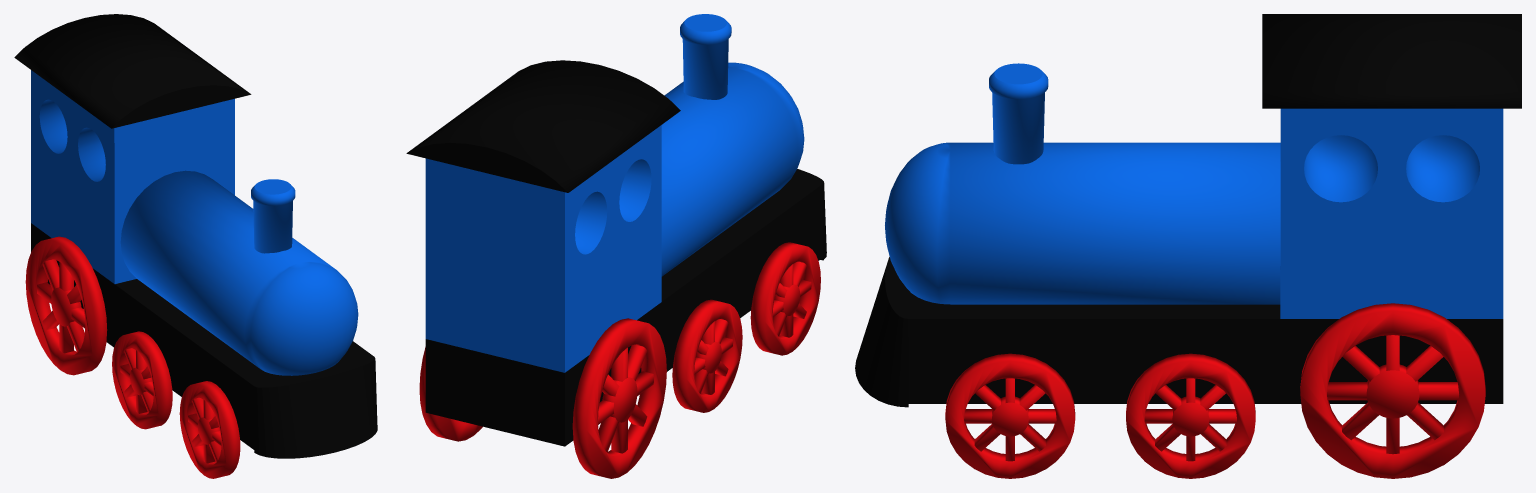
Rendered from locomotive.fbx.
The picture shows the model from 3 angles, left to right: view 1: azimuth 30°, elevation 25°; view 2: azimuth 150°, elevation 25°; view 3: azimuth 270°, elevation 25°; orthographic projection. The views are drawn at different scales.
Visible parts, largest first — view 1: locomotive; view 2: locomotive; view 3: locomotive.
Boxes of the visible parts, x1=… form: locomotive: x1=14, y1=14, x2=377, y2=478; locomotive: x1=406, y1=14, x2=826, y2=478; locomotive: x1=855, y1=14, x2=1521, y2=478.
Bounding box in the file's own units: 2.4 × 4.75 × 7.2.
